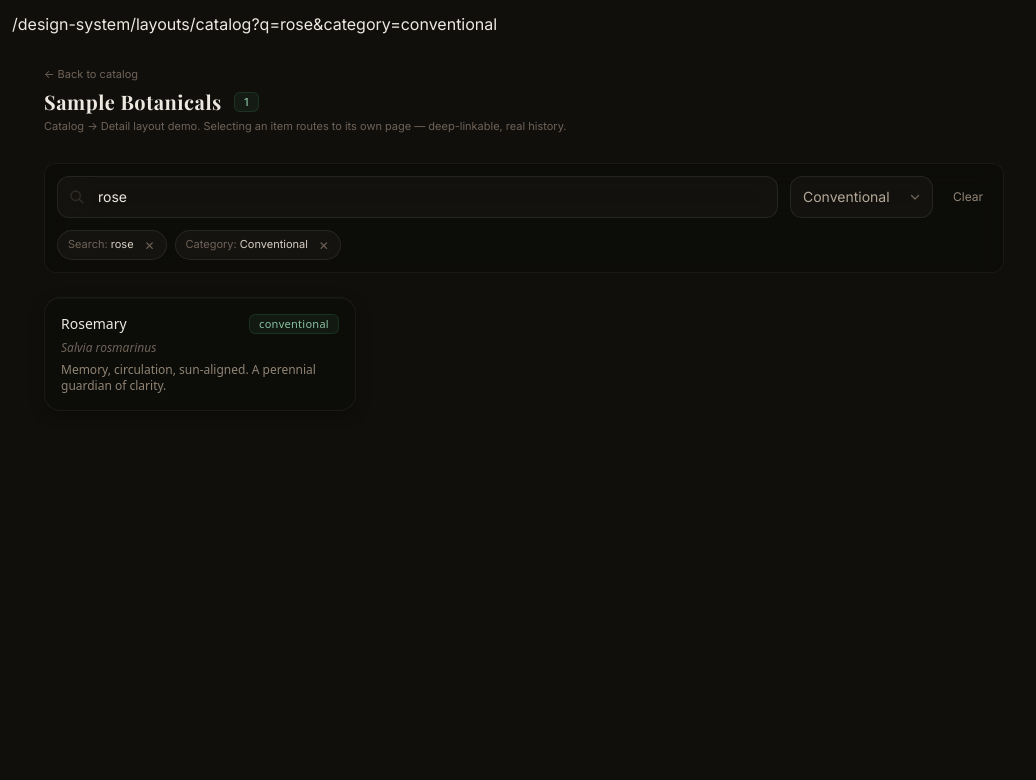
CatalogDemo — composes the canonical Catalog layout with FilterBar › the Clear action resets every filter and clears the URL params
Click the button with aria-label "clear all filters" at point(968, 196), box top-left (945, 182), bottom-right (991, 210)
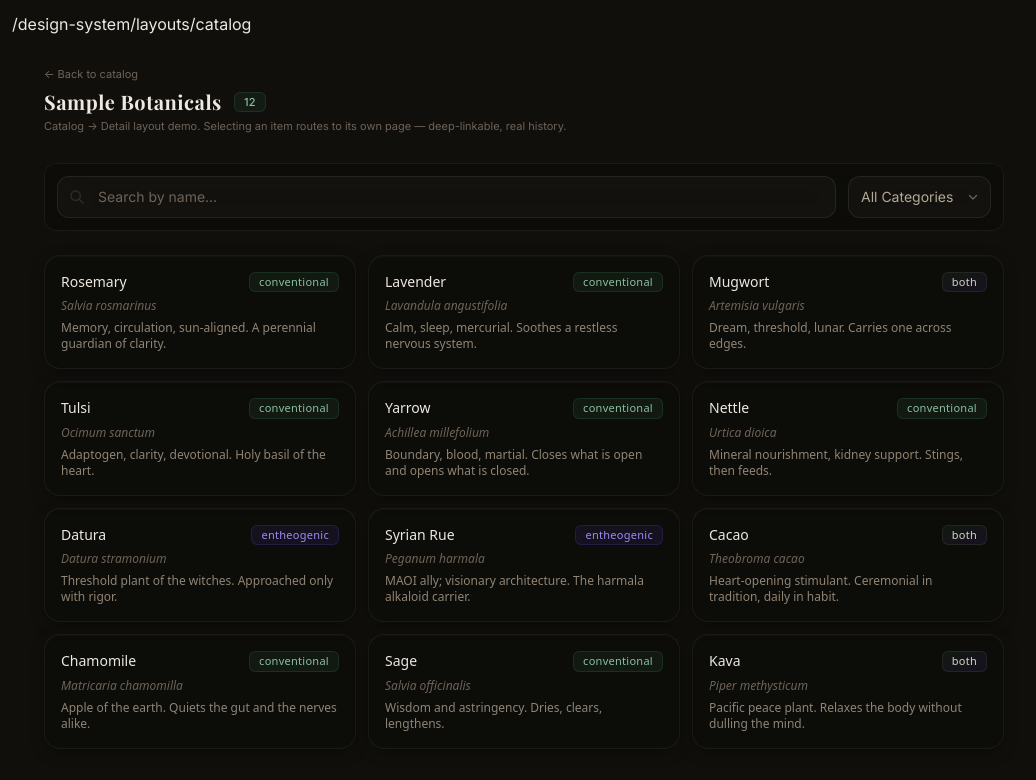
Expected: the text with test id "location-probe" no longer shows "q="
Expected: the text with test id "location-probe" no longer shows "category="
Expected: the text "Datura" is shown, top-left (61, 524), bottom-right (106, 544)
